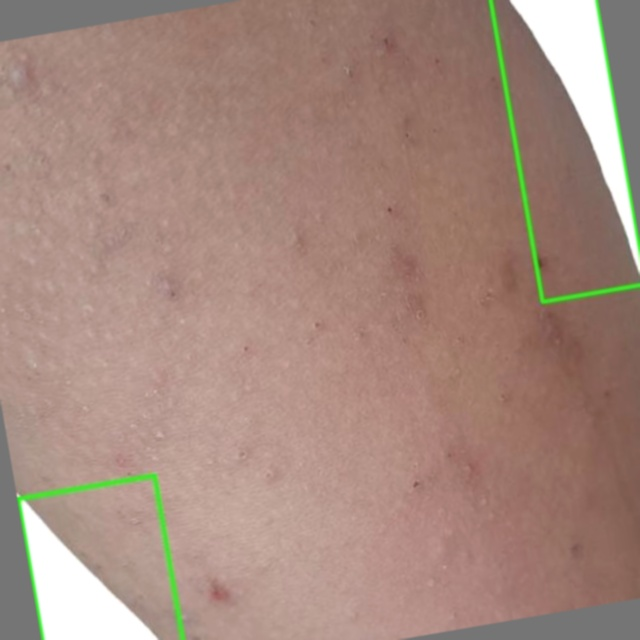Scabies: (490, 0, 639, 301), (17, 475, 182, 639)
